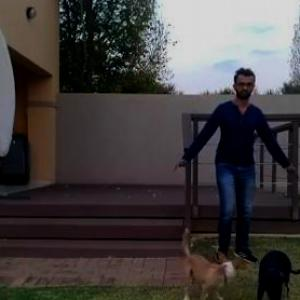land: (171, 67, 292, 274)
